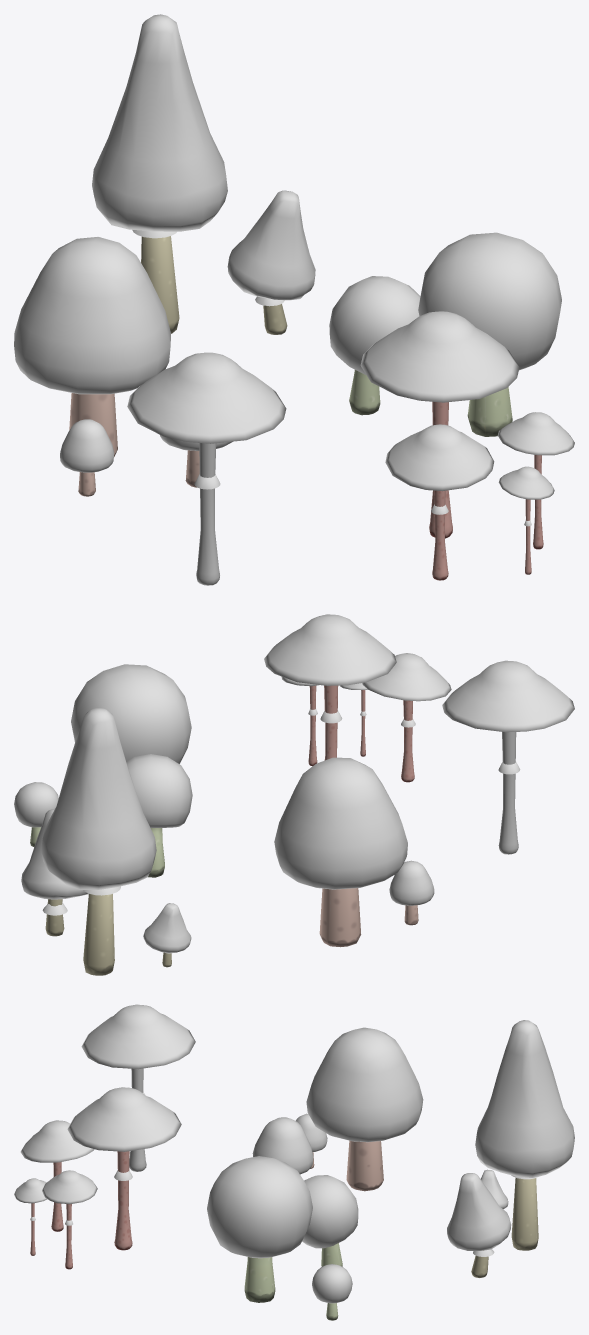
The model's file is Mushroom.fbx.
The picture shows the model from 3 angles, top to bottom: view 1: azimuth 30°, elevation 25°; view 2: azimuth 150°, elevation 25°; view 3: azimuth 270°, elevation 25°; orthographic projection. The views are drawn at different scales.
Parts seen in each view (by area): view 1: 4.Stalk.001, 6.Stalk.001, 3.Head.001, 5.Stalk.001, 5.Head.002, 4.Stalk.003, 3.Stalk.003, 5.Stalk.004, 5.Stalk.002, 6.Stalk.003, 5.Stalk.005, 5.Stalk.003 (+1 smaller); view 2: 4.Stalk.001, 6.Stalk.001, 3.Head.001, 5.Stalk.001, 5.Head.002, 3.Stalk.003, 5.Stalk.004, 4.Stalk.003, 5.Stalk.005, 6.Stalk.003, 4.Head.002, 3.Stalk.002 (+2 smaller); view 3: 4.Stalk.001, 6.Stalk.001, 3.Head.001, 5.Stalk.001, 5.Head.002, 4.Stalk.003, 3.Stalk.003, 5.Stalk.004, 6.Stalk.002, 5.Stalk.002, 3.Stalk.002, 5.Stalk.003 (+3 smaller).
Part boxes in pixels (box(x1,y1,x2,y2)): 4.Stalk.001: box(92, 14, 227, 333); 6.Stalk.001: box(14, 237, 170, 456); 3.Head.001: box(418, 232, 561, 436); 5.Stalk.001: box(360, 311, 519, 538); 5.Head.002: box(127, 352, 286, 443); 4.Stalk.003: box(227, 190, 315, 334); 3.Stalk.003: box(329, 276, 420, 415); 5.Stalk.004: box(385, 424, 494, 580); 5.Stalk.002: box(497, 412, 574, 549); 6.Stalk.003: box(60, 419, 114, 496); 5.Stalk.005: box(194, 443, 220, 585); 5.Stalk.003: box(498, 466, 554, 574); 4.Stalk.001: box(41, 707, 156, 975); 6.Stalk.001: box(274, 757, 407, 947); 3.Head.001: box(71, 664, 191, 763); 5.Stalk.001: box(264, 614, 396, 760); 5.Head.002: box(442, 660, 574, 732); 3.Stalk.003: box(126, 754, 192, 877); 5.Stalk.004: box(362, 653, 451, 782); 4.Stalk.003: box(21, 808, 88, 936); 5.Stalk.005: box(498, 732, 520, 854); 6.Stalk.003: box(389, 860, 434, 925); 4.Head.002: box(143, 903, 191, 967); 3.Stalk.002: box(14, 782, 58, 846); 4.Stalk.001: box(475, 1020, 574, 1250); 6.Stalk.001: box(306, 1027, 423, 1191); 3.Head.001: box(207, 1156, 312, 1302); 5.Stalk.001: box(67, 1087, 181, 1250); 5.Head.002: box(81, 1004, 195, 1069); 4.Stalk.003: box(447, 1173, 511, 1277); 3.Stalk.003: box(302, 1175, 358, 1266); 5.Stalk.004: box(20, 1120, 94, 1231); 6.Stalk.002: box(252, 1117, 313, 1174); 5.Stalk.002: box(42, 1170, 97, 1269); 3.Stalk.002: box(312, 1264, 352, 1320); 5.Stalk.003: box(14, 1178, 47, 1255).
Bounding box in the file's own units: 355 × 203 × 458.
